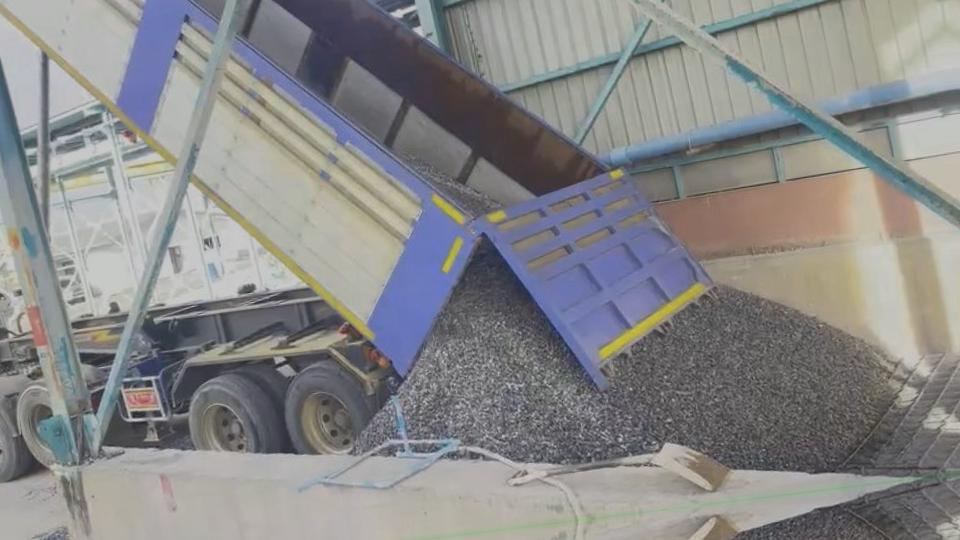gravel: (400, 244, 896, 471), (401, 155, 503, 215), (358, 405, 395, 451), (0, 528, 95, 540)
